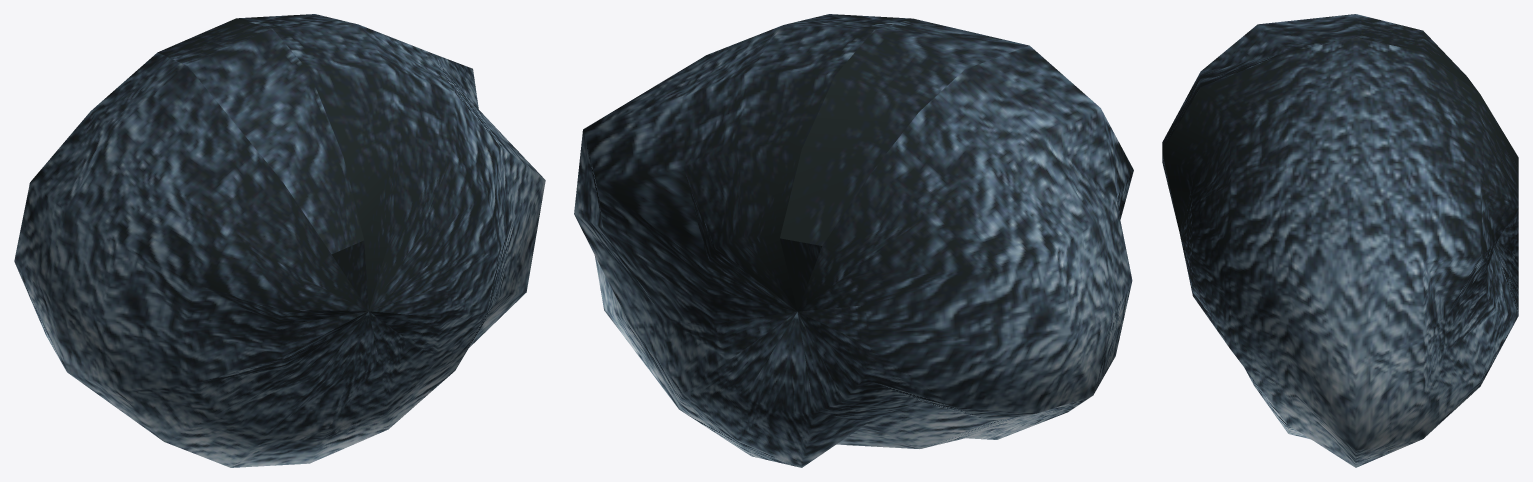
File: asteroid.fbx
3 renders of one model, left to right at view 1: azimuth 30°, elevation 25°; view 2: azimuth 150°, elevation 25°; view 3: azimuth 270°, elevation 25°, orthographic. The views are drawn at different scales.
Parts seen in each view (by area): view 1: U3DMesh; view 2: U3DMesh; view 3: U3DMesh.
Part boxes in pixels (x1,y1,x2,y2): U3DMesh: [14, 14, 545, 467]; U3DMesh: [574, 14, 1133, 467]; U3DMesh: [1162, 14, 1518, 467].
Size of the model in its own units: 105 by 82.62 by 71.22.
